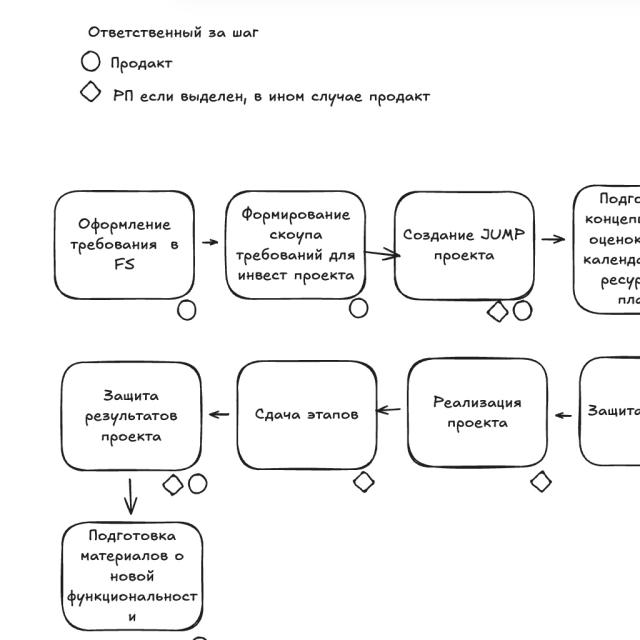arrow: (365, 247, 399, 261), (124, 479, 137, 514), (377, 406, 400, 414), (542, 235, 564, 243), (209, 411, 229, 418), (555, 412, 571, 418), (202, 239, 218, 245)
rectangle: (54, 187, 196, 300), (223, 189, 366, 300), (61, 522, 204, 630), (408, 358, 548, 468), (396, 190, 533, 302), (61, 362, 201, 470), (237, 361, 376, 469)
